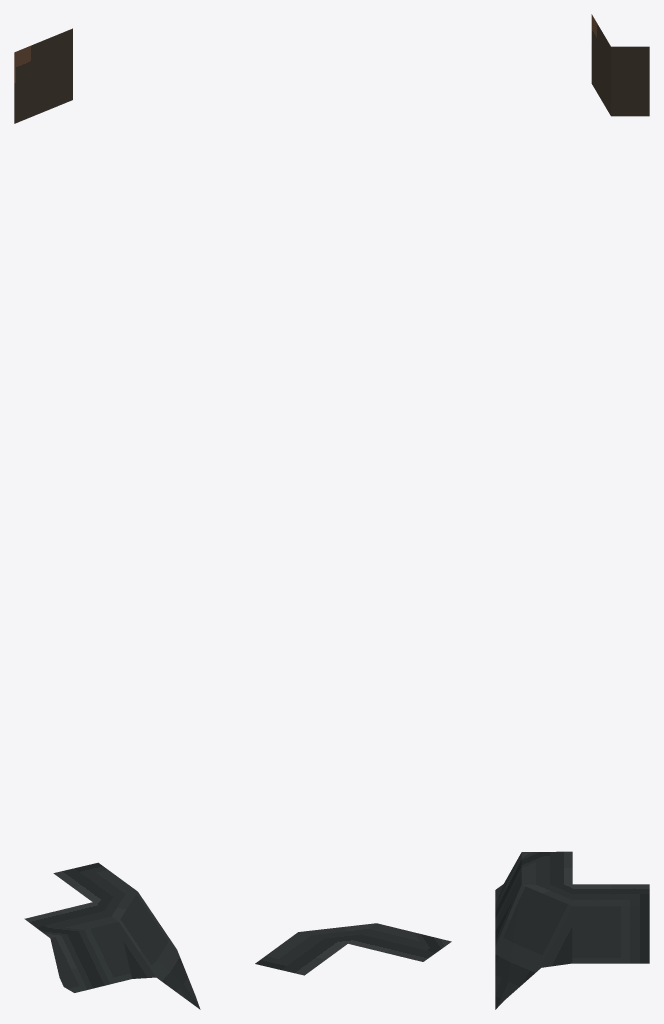
The picture shows the model from 3 angles, left to right: view 1: azimuth 30°, elevation 25°; view 2: azimuth 150°, elevation 25°; view 3: azimuth 270°, elevation 25°; orthographic projection. The views are drawn at different scales.
Bounding box in the file's own units: 1 × 6.67 × 1.
3 materials, 3 textured.
